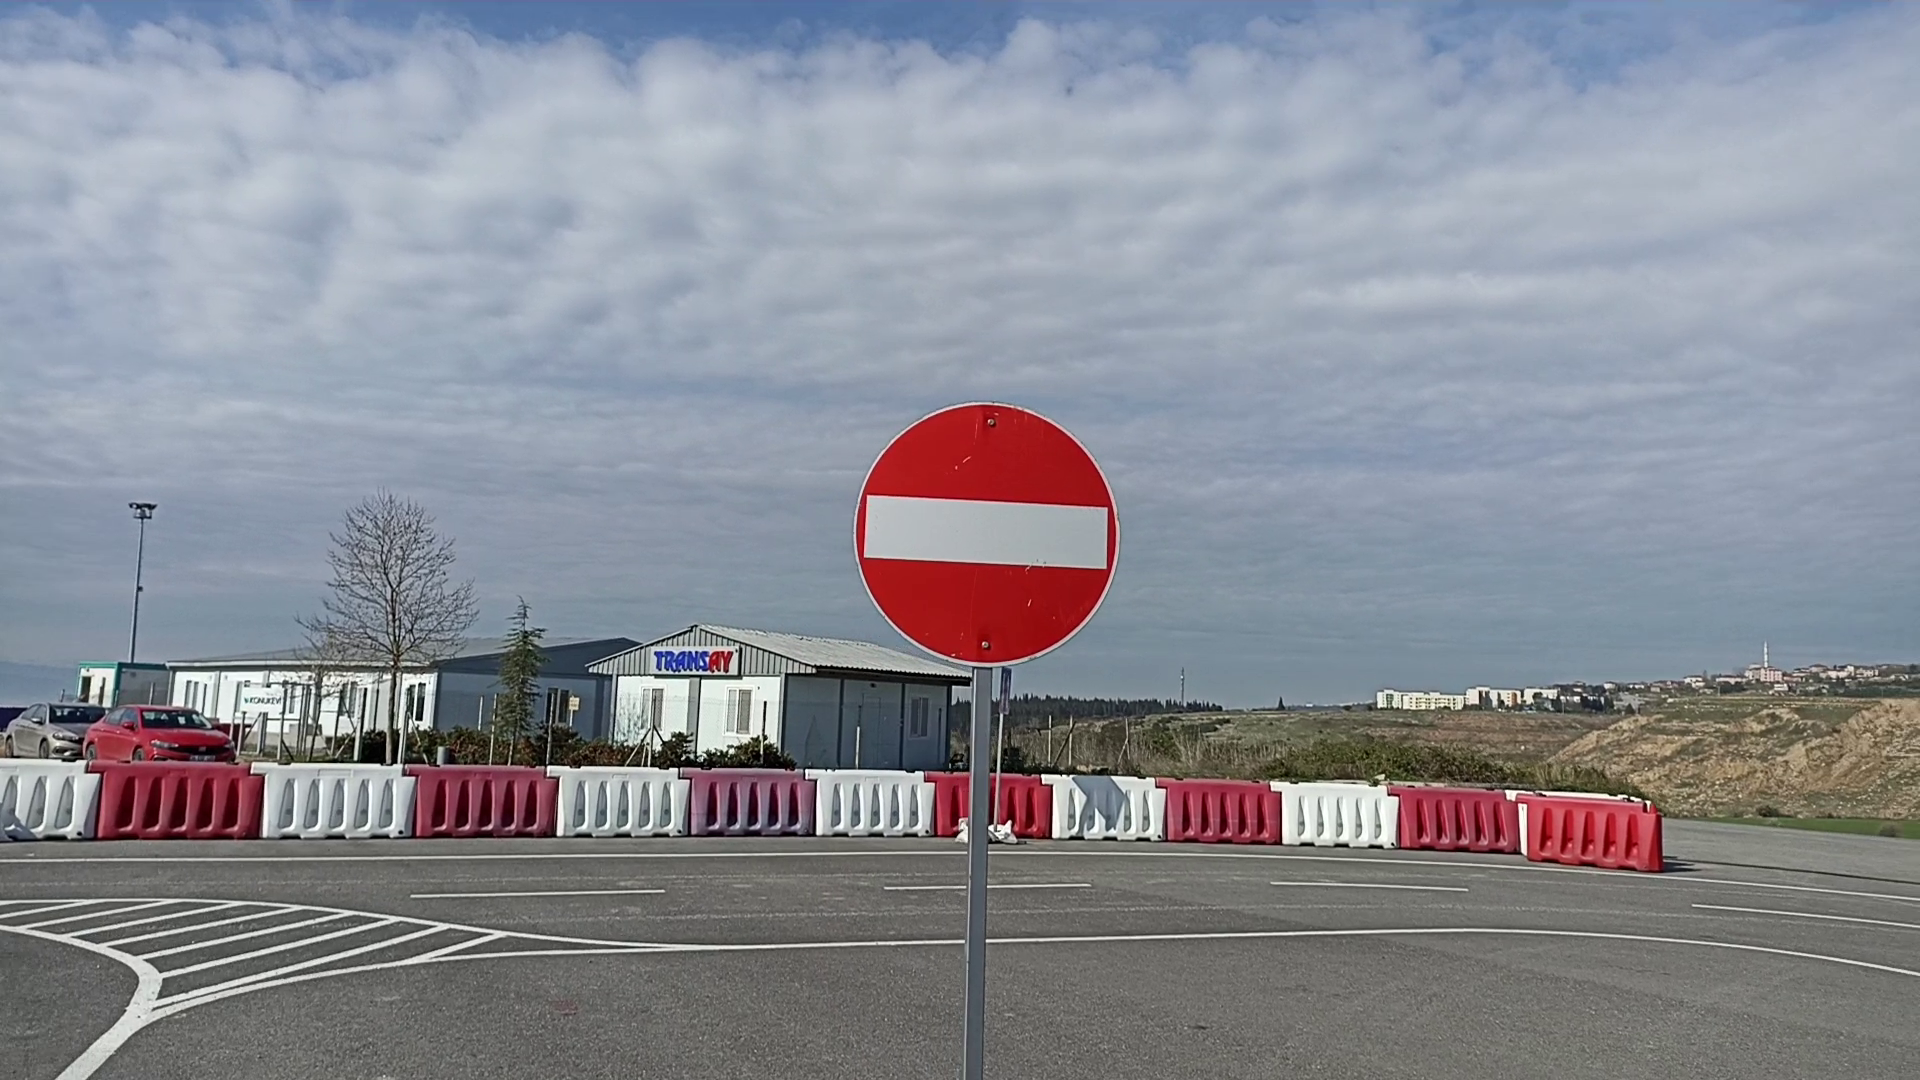noentryway: (847, 396, 1124, 675)
